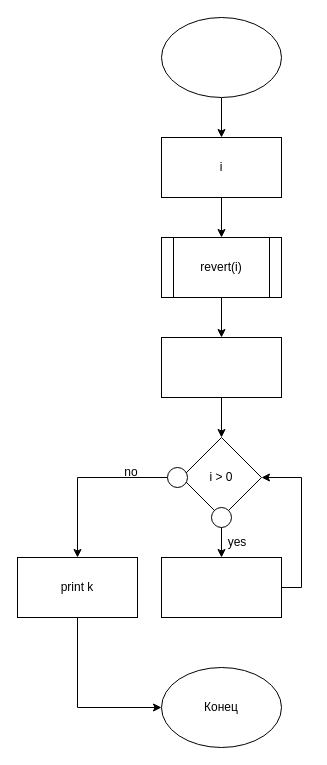
The diagram is 327 pixels wide and 765 high, and some of its shapes have lost their labels. The shapes that lost their labels are listed below. From the top down, each one's box as (x1, y1, x2, y2) in pixels, then its label:
(160, 16, 282, 98): Начало
(160, 336, 282, 398): k = 0
(160, 556, 282, 618): k = k*10 + i%10 i //= 10
